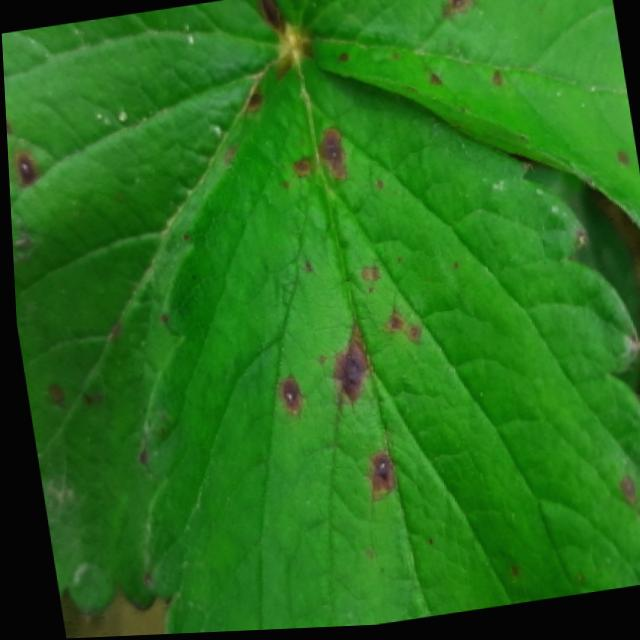Leaf Spot: (129, 51, 640, 635), (1, 0, 291, 625), (277, 0, 640, 242)
